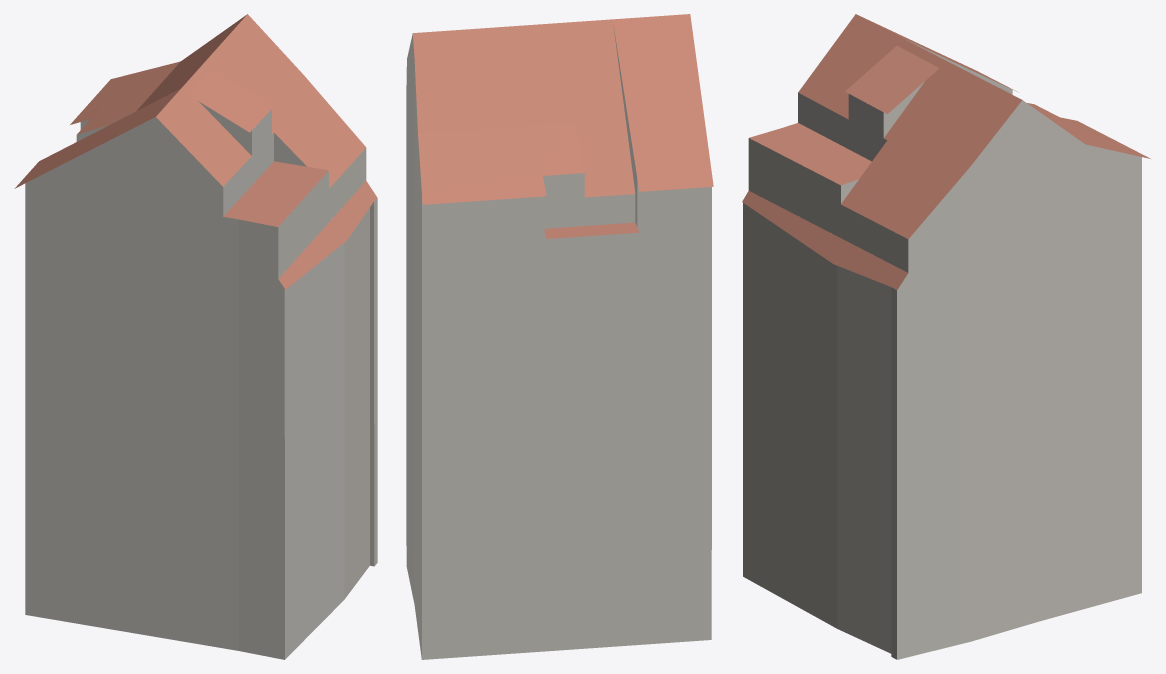
3 renders of one model, left to right at view 1: azimuth 30°, elevation 25°; view 2: azimuth 150°, elevation 25°; view 3: azimuth 270°, elevation 25°, orthographic. The views are drawn at different scales.
Visible parts, largest first — view 1: swisstopo:swissbuildings3d:8df8ed31-c575-49c9-a85d-c1b92780f; view 2: swisstopo:swissbuildings3d:8df8ed31-c575-49c9-a85d-c1b92780f; view 3: swisstopo:swissbuildings3d:8df8ed31-c575-49c9-a85d-c1b92780f.
Part boxes in pixels (x1=…): swisstopo:swissbuildings3d:8df8ed31-c575-49c9-a85d-c1b92780f: x1=14, y1=14, x2=377, y2=659; swisstopo:swissbuildings3d:8df8ed31-c575-49c9-a85d-c1b92780f: x1=406, y1=14, x2=713, y2=659; swisstopo:swissbuildings3d:8df8ed31-c575-49c9-a85d-c1b92780f: x1=742, y1=14, x2=1150, y2=659.
Bounding box in the file's own units: 16.1 × 24.71 × 17.44.
